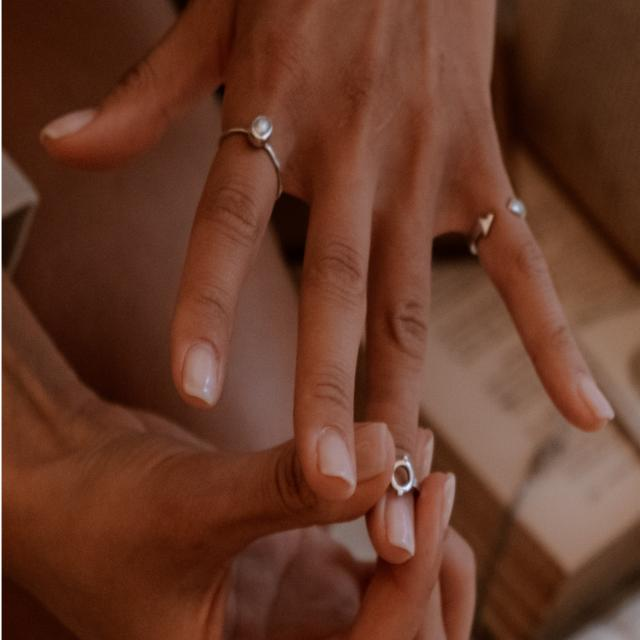Nail: (317, 427, 356, 490), (182, 342, 218, 405), (577, 370, 616, 425), (384, 489, 416, 556), (39, 108, 95, 142), (441, 475, 456, 536)
